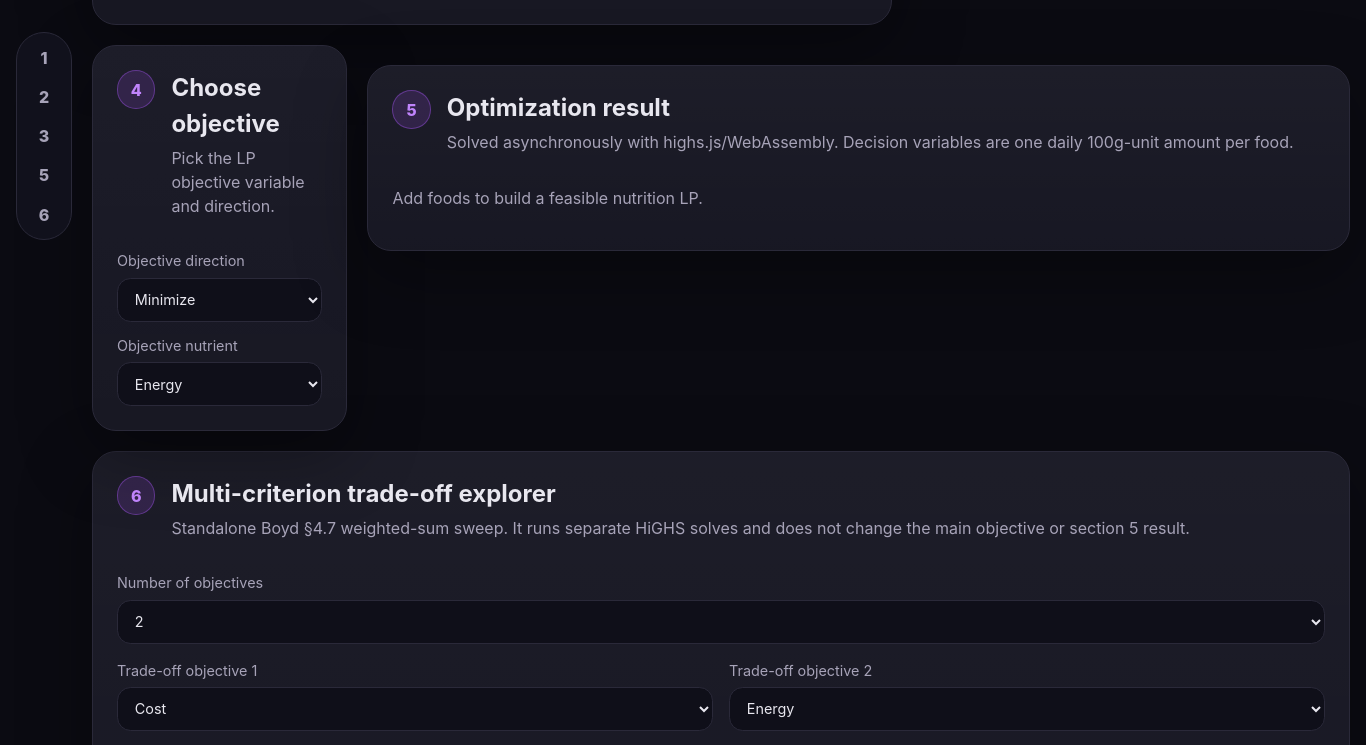
Test: DietOptimizer › hides manual food form and shows a temporary cost warning only after switching to cost objective
(page scrolled)
Check: the text "Cost is currently a placeholder" is not shown
Select "Cost" in the dropdown labelled "Objective nutrient" at (220, 384), box [117,362,322,406]
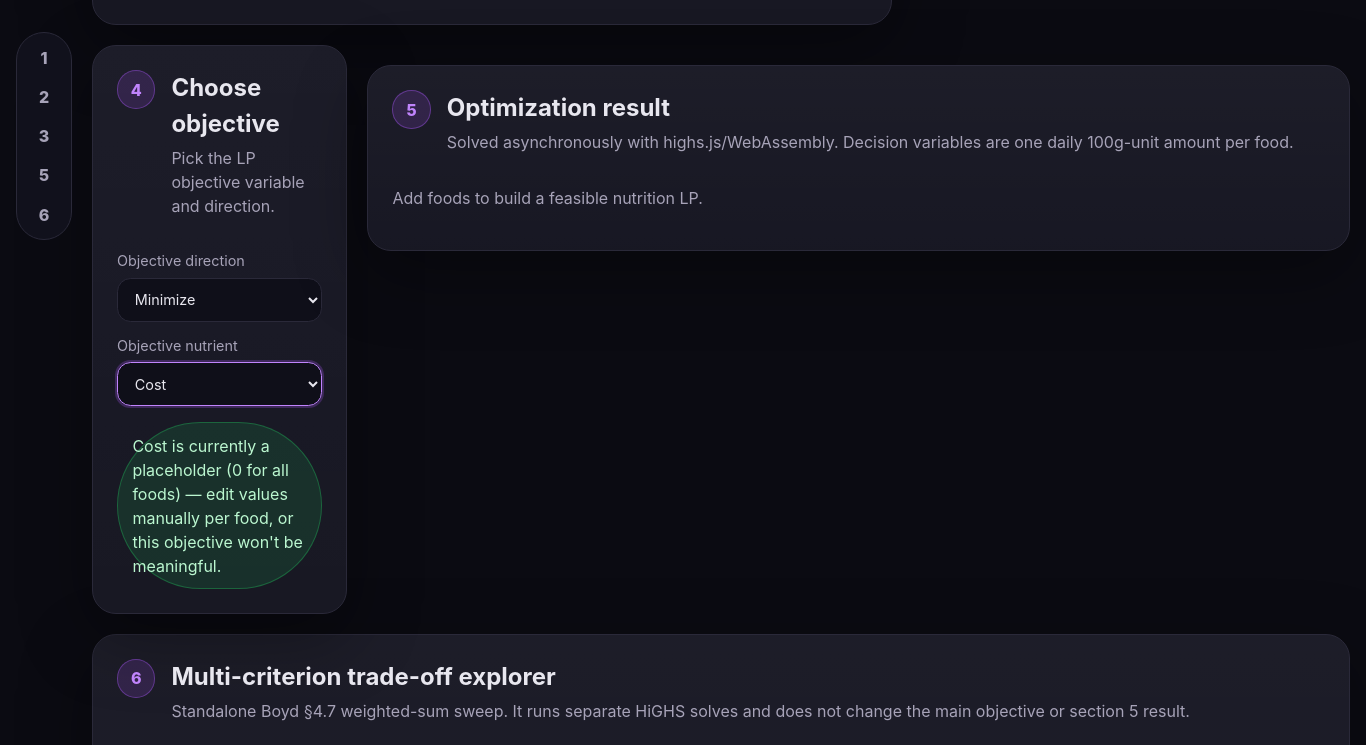
Check: the text "Cost is currently a placeholder" is shown, box [132,436,303,576]
